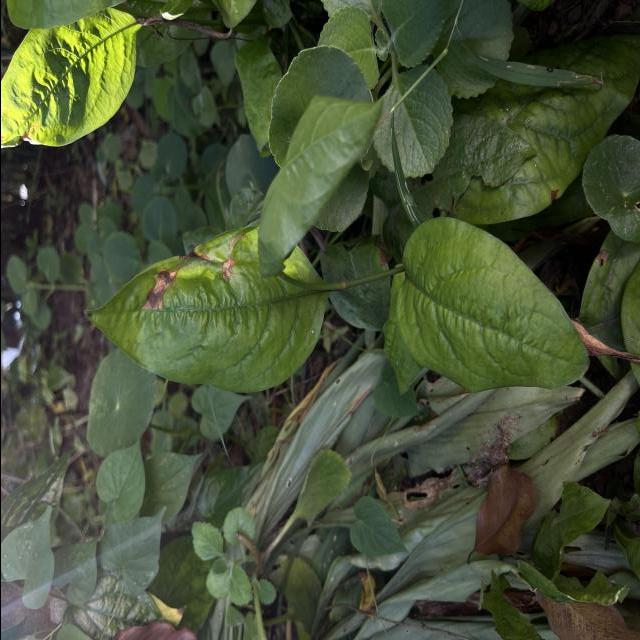Plumbago indica: (78, 223, 334, 396), (393, 212, 593, 393)
